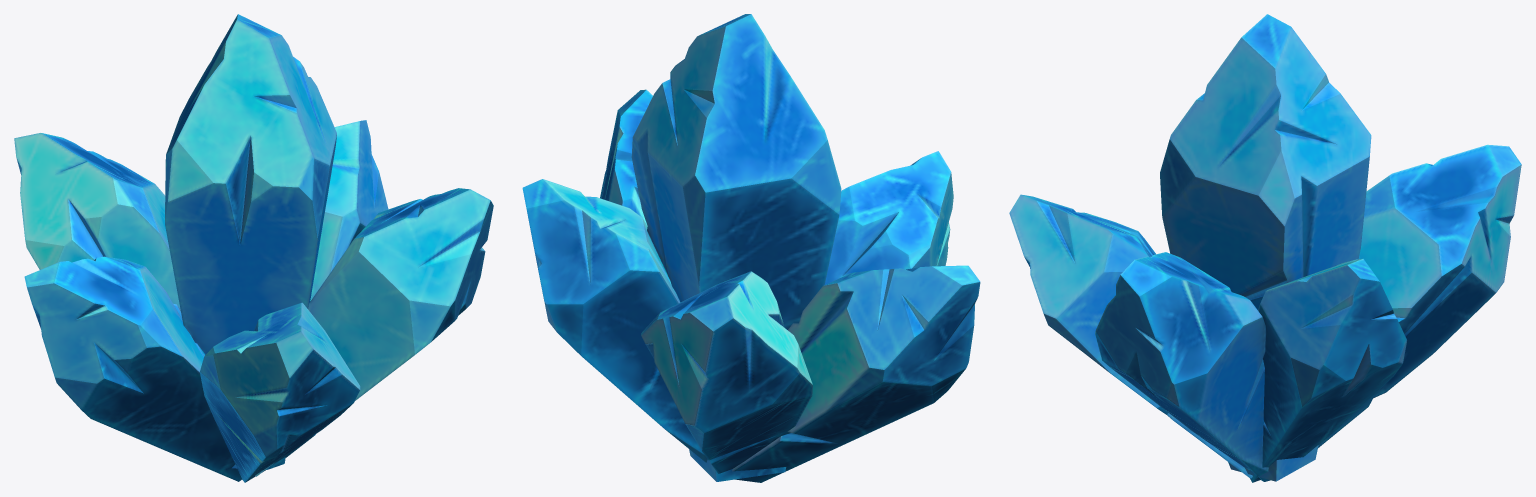
Rendered from BigCrystal.fbx.
3 views of the same model, side by side, from view 1: azimuth 30°, elevation 25°; view 2: azimuth 150°, elevation 25°; view 3: azimuth 270°, elevation 25° (orthographic). The views are drawn at different scales.
Visible parts, largest first — view 1: BigCrystal; view 2: BigCrystal; view 3: BigCrystal.
Part boxes in pixels (bbox=[...]): BigCrystal: bbox=[14, 14, 493, 482]; BigCrystal: bbox=[522, 14, 980, 482]; BigCrystal: bbox=[1009, 14, 1521, 482].
Size of the model in its own units: 473 by 502 by 506.
